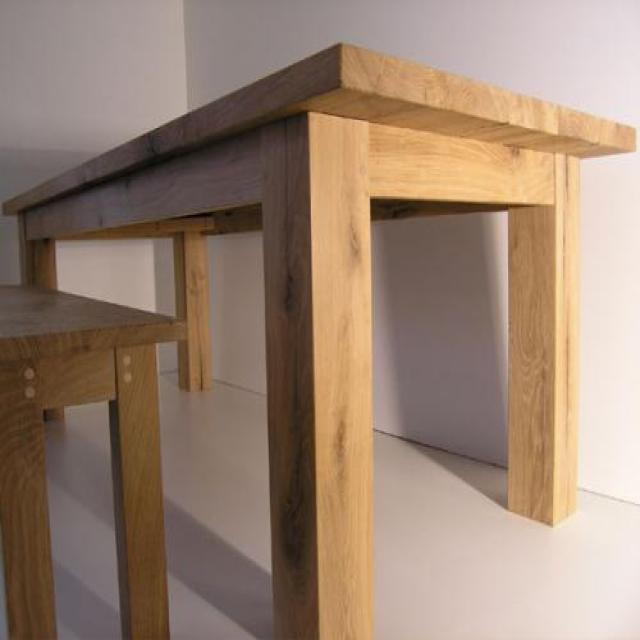table: (1, 36, 638, 640)
